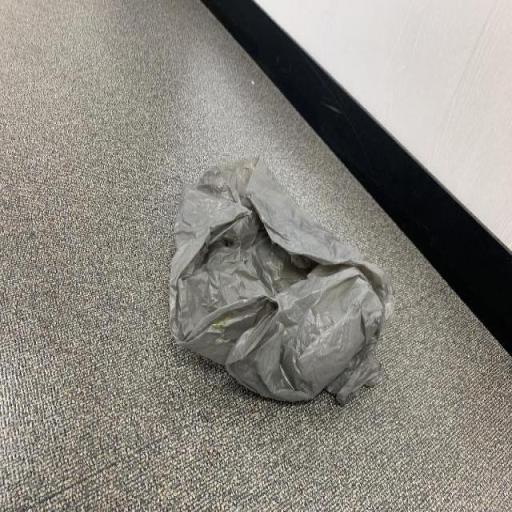plastic-bag: (168, 153, 394, 406)
